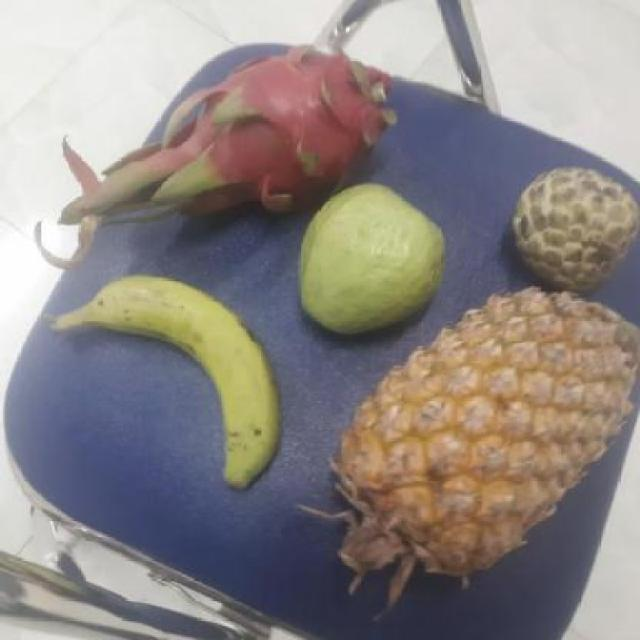banana: (66, 277, 277, 481)
dragon fruit: (192, 42, 390, 216)
guava: (292, 187, 448, 333)
pineapple: (327, 296, 636, 575)
sugar apple: (506, 170, 639, 292)
